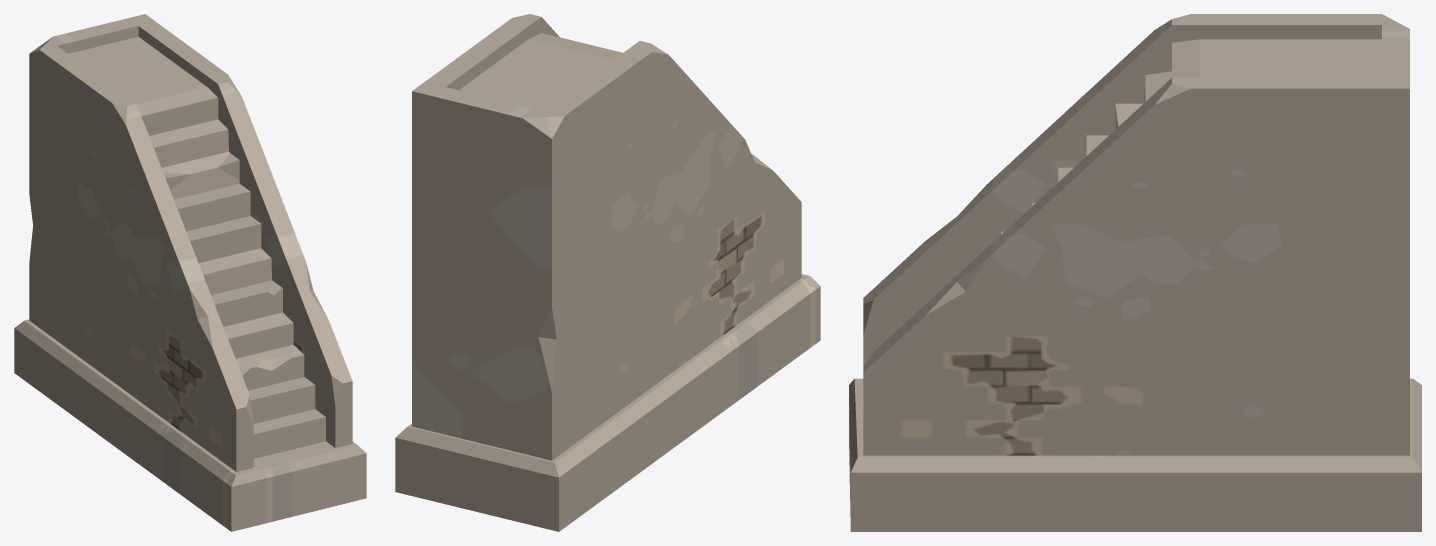
File: SM_Bld_Village_Stairs_Large_01.glb
3 renders of one model, left to right at view 1: azimuth 30°, elevation 25°; view 2: azimuth 150°, elevation 25°; view 3: azimuth 270°, elevation 25°, orthographic. The views are drawn at different scales.
Parts seen in each view (by area): view 1: SM_Bld_Village_Stairs_Large_01; view 2: SM_Bld_Village_Stairs_Large_01; view 3: SM_Bld_Village_Stairs_Large_01.
Part boxes in pixels (left/top/right/bottom): SM_Bld_Village_Stairs_Large_01: left=14, top=14, right=366, bottom=531; SM_Bld_Village_Stairs_Large_01: left=395, top=14, right=820, bottom=531; SM_Bld_Village_Stairs_Large_01: left=849, top=14, right=1421, bottom=531.
Bounding box in the file's own units: 1.96 × 4.58 × 5.44.
Materials: 1 (1 with a texture image).
